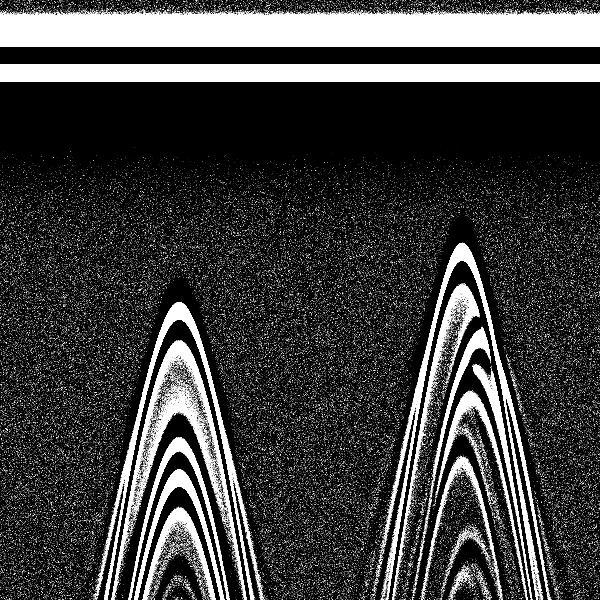pipe: (132, 7, 229, 382), (423, 4, 497, 314)
